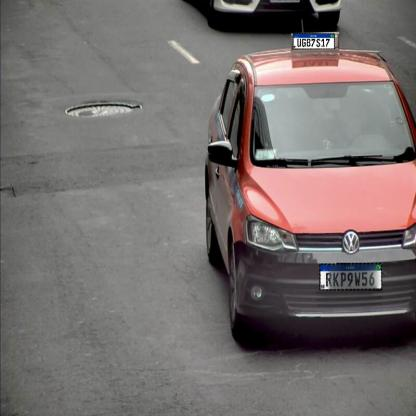PlacaM: (319, 263, 382, 290), (293, 34, 335, 50)
